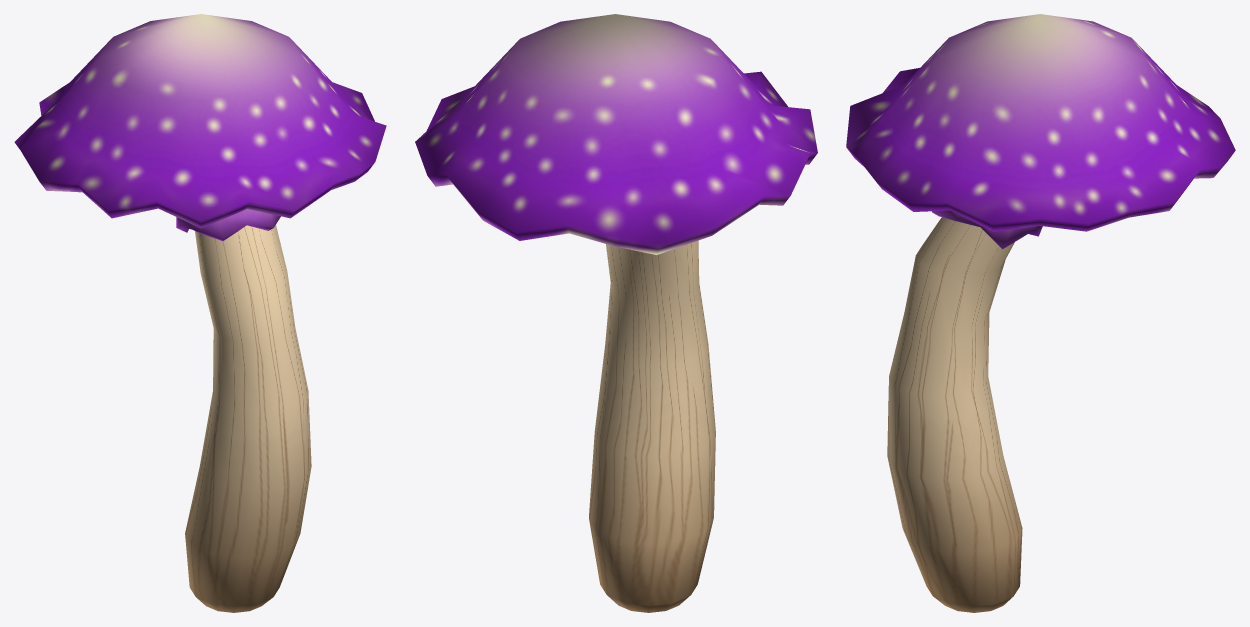
The model's file is Mushroon.fbx.
3 views of the same model, side by side, from view 1: azimuth 30°, elevation 25°; view 2: azimuth 150°, elevation 25°; view 3: azimuth 270°, elevation 25° (orthographic). The views are drawn at different scales.
Visible parts, largest first — view 1: BigMushroon; view 2: BigMushroon; view 3: BigMushroon.
Part boxes in pixels (x1,y1,x2,y2): BigMushroon: (14,14,386,612); BigMushroon: (415,14,817,612); BigMushroon: (846,14,1235,612).
Size of the model in its own units: 206 by 348 by 207.
